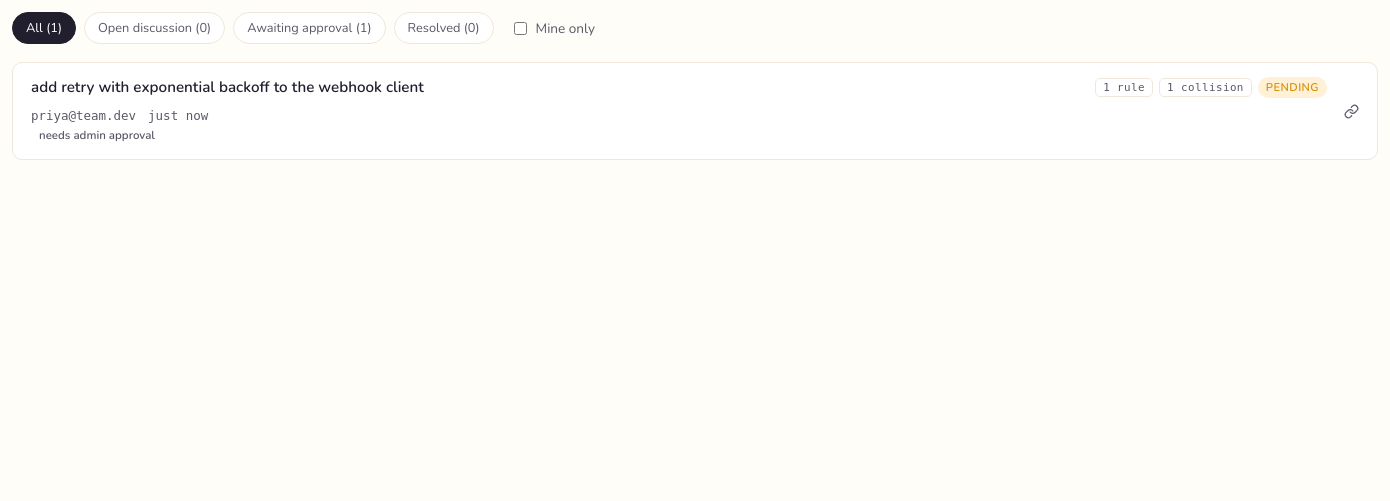
Scenario: ConflictsView › an enriched review names what it collides with, using the shared conflict vocabulary, and what blocked it
What coordinates should you click on to do the following:
click the 5th button
I would click on:
 (227, 87)
Its box is [13,63,1377,159].
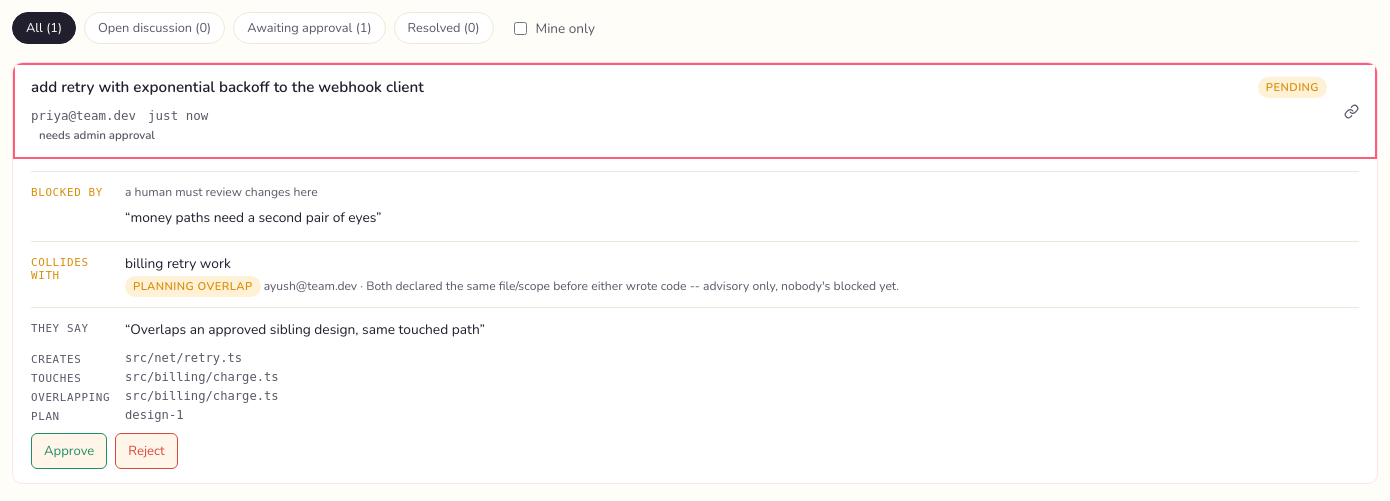
Now the text "Blocked by" is shown, box [31,186,103,199]
Now the text "“money paths need a second pair of eyes”" is shown, box [125,208,382,229]
Now the text "Collides with" is shown, box [31,256,89,282]
